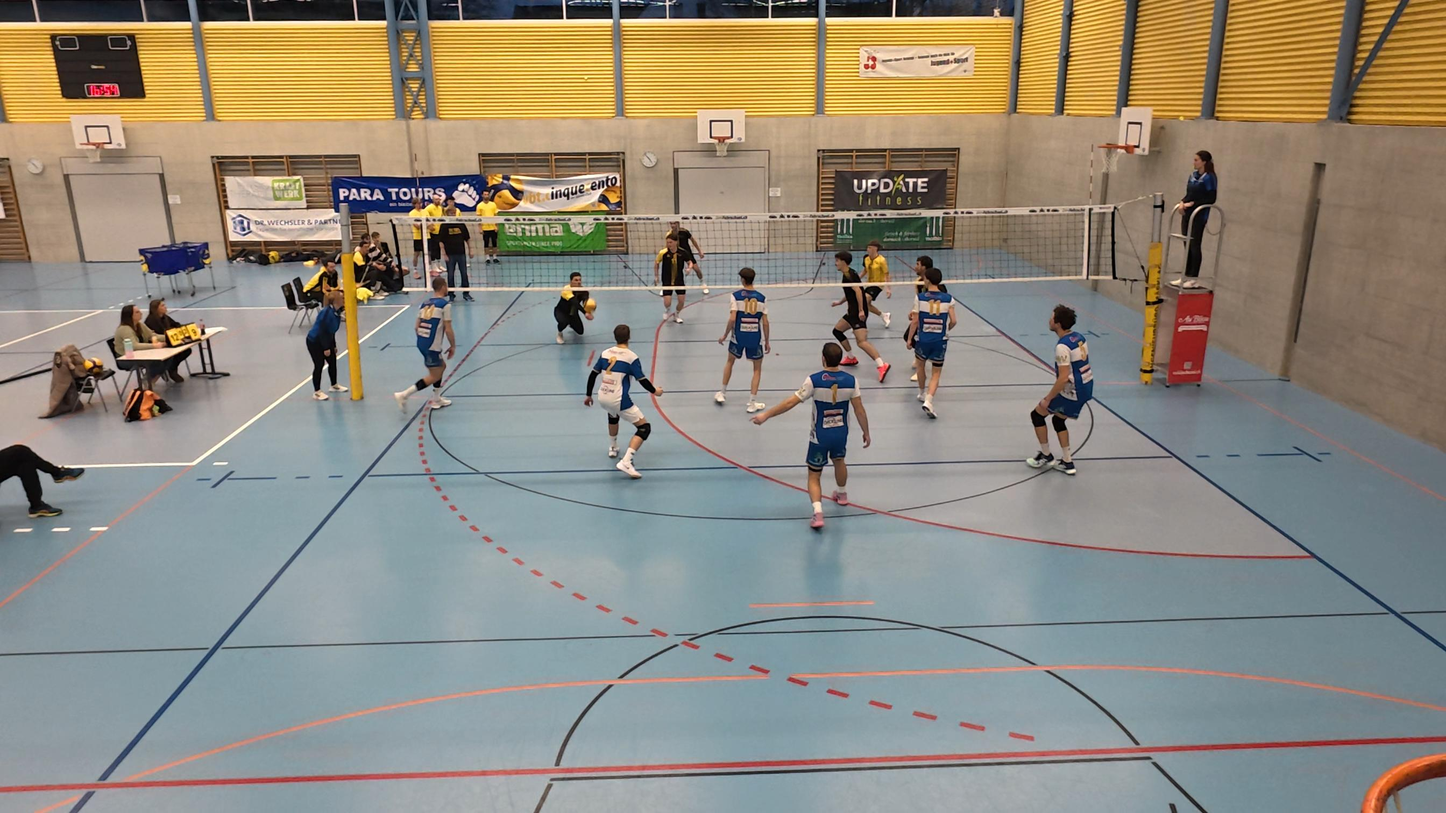Dig: (550, 274, 597, 351)
Player: (752, 339, 869, 531), (584, 323, 660, 478), (1027, 308, 1088, 475), (714, 268, 772, 410), (905, 274, 955, 419), (828, 265, 889, 382), (395, 291, 453, 413), (1050, 304, 1096, 444), (650, 227, 689, 326), (672, 217, 707, 303), (862, 241, 890, 331)
ball: (579, 296, 599, 320)
